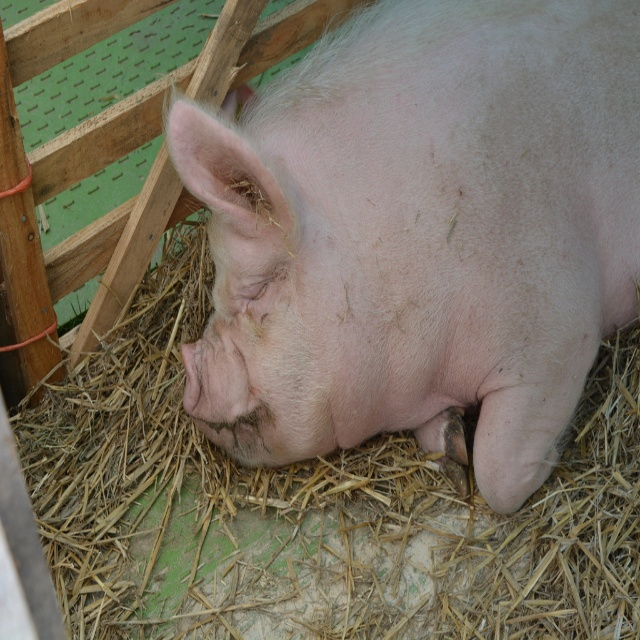Pig: (159, 0, 640, 518)
